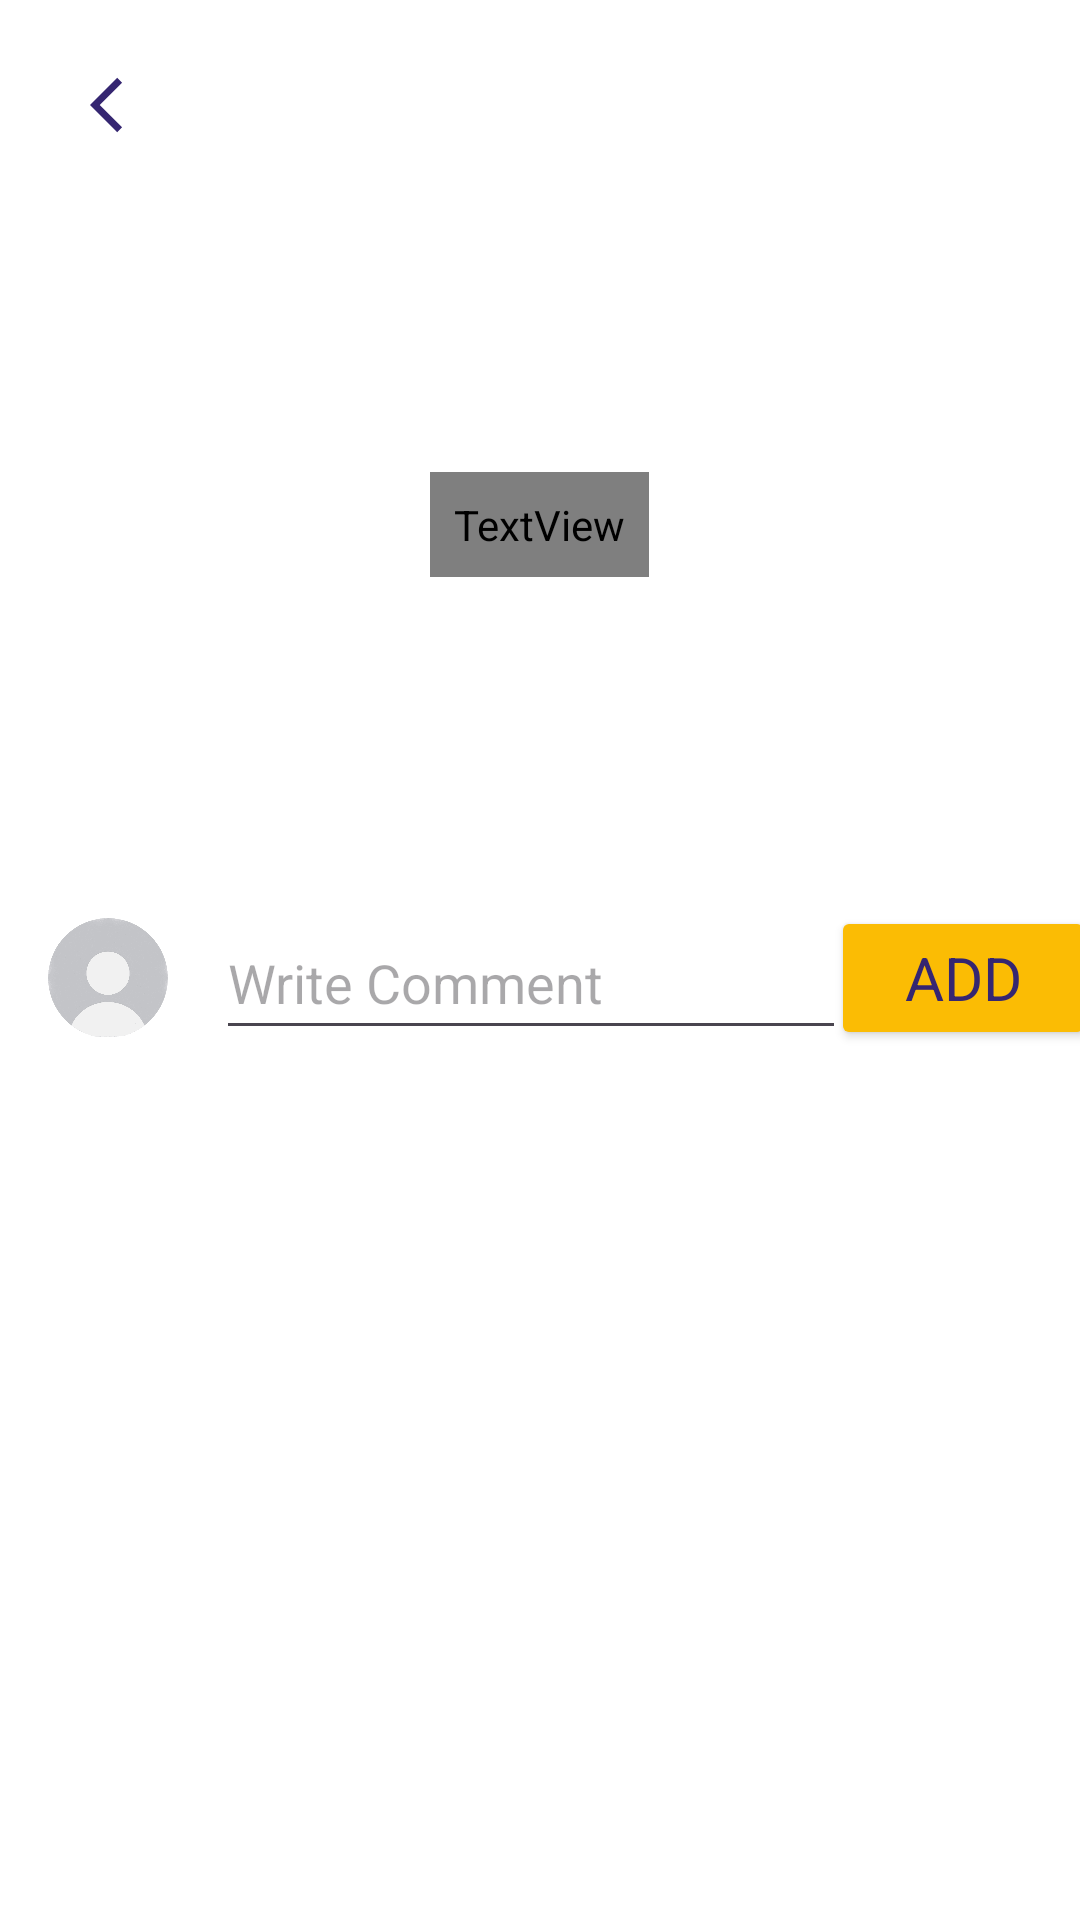

Icon click points for this 1080×1920 phone screenshot, format (x=x, y=y):
back: (x=106, y=105)
profile pic: (x=108, y=977)
